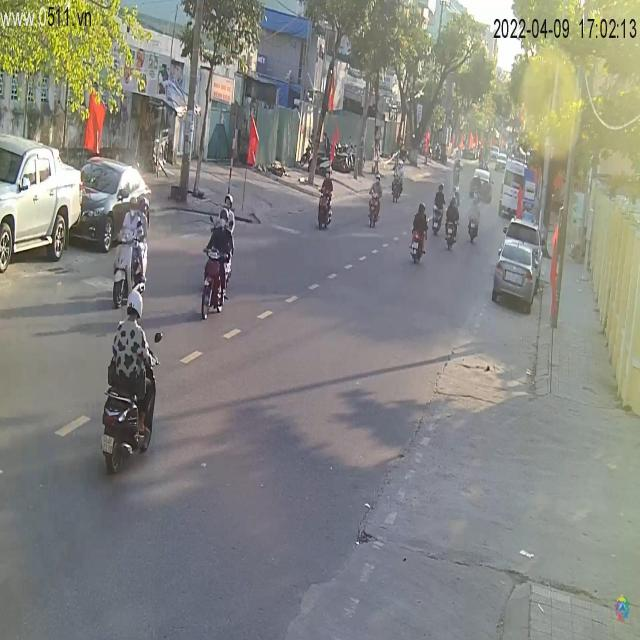car: (1, 132, 83, 276), (71, 157, 154, 255), (491, 240, 543, 316)
motorcycle: (96, 328, 160, 473), (110, 220, 152, 306), (197, 236, 231, 322), (316, 182, 335, 230), (443, 202, 459, 253), (465, 206, 481, 247), (367, 184, 380, 229), (409, 234, 424, 264)
